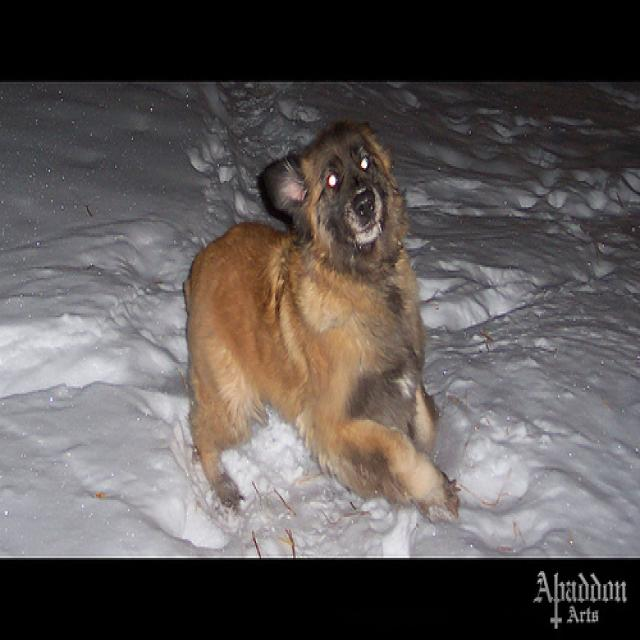dog-leonberger: (172, 112, 472, 530)
